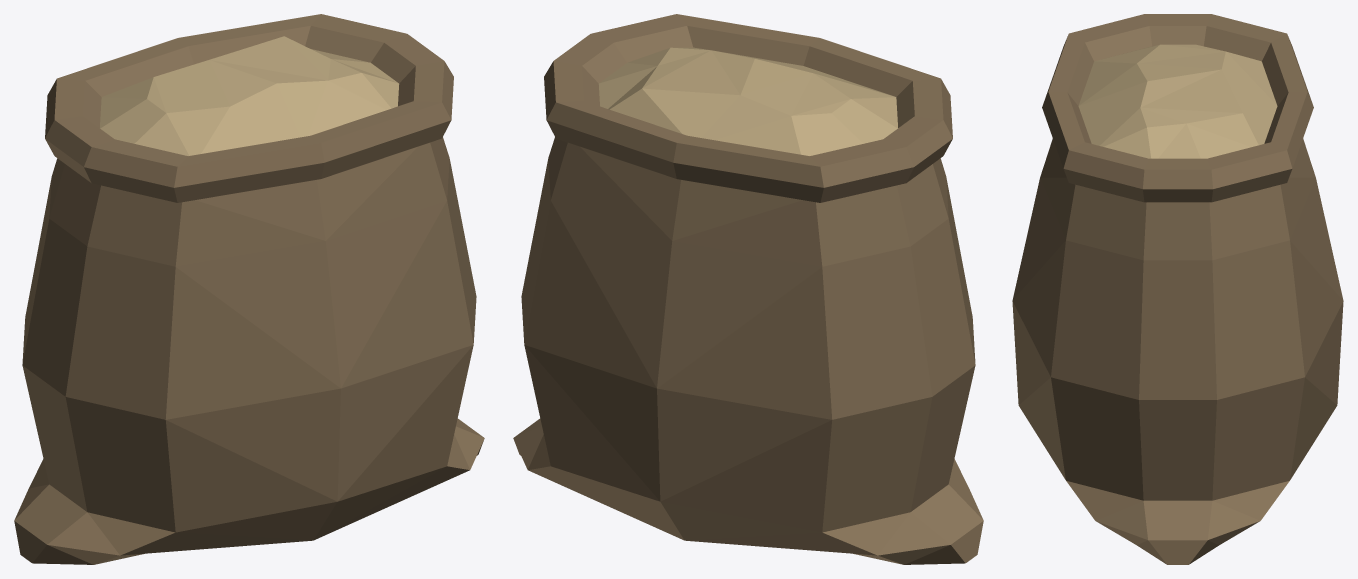
The model's file is sack_a.glb.
The picture shows the model from 3 angles, left to right: view 1: azimuth 30°, elevation 25°; view 2: azimuth 150°, elevation 25°; view 3: azimuth 270°, elevation 25°; orthographic projection. The views are drawn at different scales.
Parts seen in each view (by area): view 1: SM_Prop_Sack_01; view 2: SM_Prop_Sack_01; view 3: SM_Prop_Sack_01.
Boxes of the visible parts, x1,y1,x2,y2 form: SM_Prop_Sack_01: [14, 14, 484, 564]; SM_Prop_Sack_01: [513, 14, 983, 564]; SM_Prop_Sack_01: [1012, 14, 1343, 564].
Size of the model in its own units: 49.67 by 46.33 by 35.28.
Materials: 1 (1 with a texture image).
